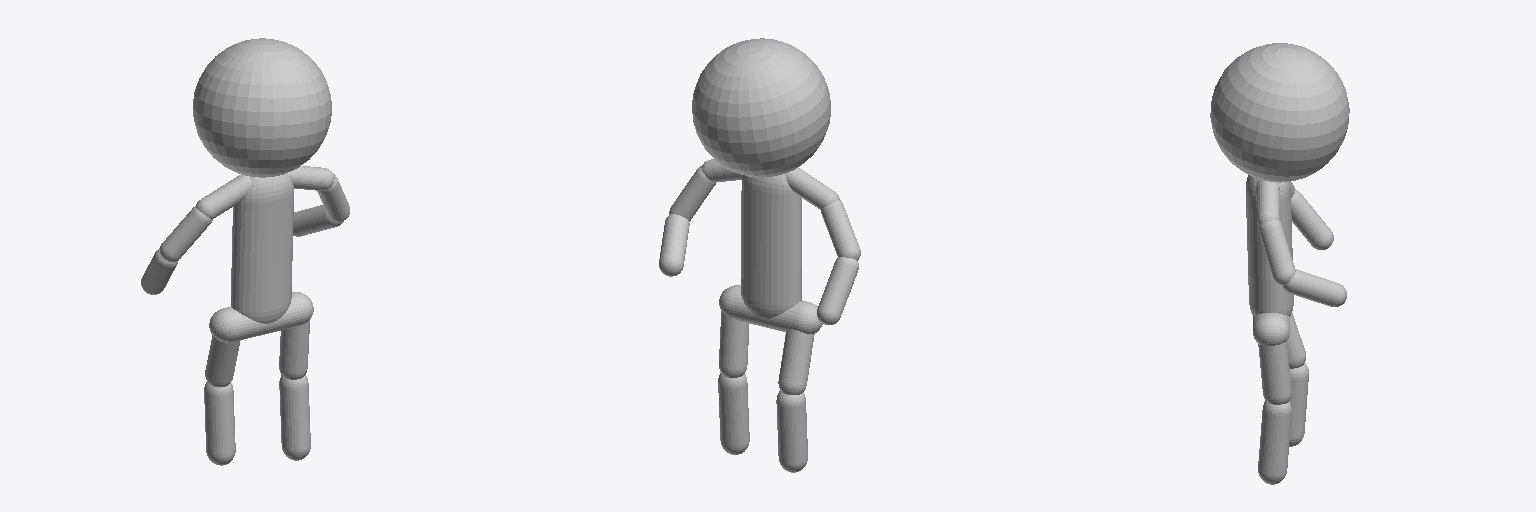
Rendered from Stickman_000033.obj.
3 views of the same model, side by side, from view 1: azimuth 30°, elevation 25°; view 2: azimuth 150°, elevation 25°; view 3: azimuth 270°, elevation 25° (orthographic).
Visible parts, largest first — view 1: Head_Sphere.001, Body_Roundcube.002, Hip_Roundcube.005, LowerLegLeft_Roundcube.013, LowerLegRight_Roundcube.011, UpperLegLeft_Roundcube.012, UpperArmRight_Roundcube.015, UpperLegRight_Roundcube.010, ShoulderRight_Roundcube.014, LowerArmLeft_Roundcube.019, LowerArmRight_Roundcube.016, ShoulderLeft_Roundcube.017 (+1 smaller); view 2: Head_Sphere.001, Body_Roundcube.002, LowerLegRight_Roundcube.011, LowerLegLeft_Roundcube.013, Hip_Roundcube.005, UpperLegRight_Roundcube.010, LowerArmRight_Roundcube.016, UpperLegLeft_Roundcube.012, LowerArmLeft_Roundcube.019, UpperArmRight_Roundcube.015, UpperArmLeft_Roundcube.018, ShoulderRight_Roundcube.014 (+1 smaller); view 3: Head_Sphere.001, Body_Roundcube.002, LowerLegLeft_Roundcube.013, UpperLegLeft_Roundcube.012, UpperArmLeft_Roundcube.018, LowerArmLeft_Roundcube.019, LowerArmRight_Roundcube.016, LowerLegRight_Roundcube.011, Hip_Roundcube.005, ShoulderLeft_Roundcube.017, UpperLegRight_Roundcube.010.
Boxes of the visible parts, x1=… form: Head_Sphere.001: x1=193, y1=38, x2=331, y2=177; Body_Roundcube.002: x1=231, y1=173, x2=293, y2=323; Hip_Roundcube.005: x1=209, y1=292, x2=313, y2=342; LowerLegLeft_Roundcube.013: x1=279, y1=375, x2=310, y2=460; LowerLegRight_Roundcube.011: x1=204, y1=382, x2=235, y2=465; UpperLegLeft_Roundcube.012: x1=279, y1=320, x2=309, y2=379; UpperArmRight_Roundcube.015: x1=160, y1=206, x2=212, y2=261; UpperLegRight_Roundcube.010: x1=205, y1=335, x2=240, y2=387; ShoulderRight_Roundcube.014: x1=196, y1=175, x2=250, y2=218; LowerArmLeft_Roundcube.019: x1=293, y1=205, x2=343, y2=236; LowerArmRight_Roundcube.016: x1=141, y1=248, x2=178, y2=294; ShoulderLeft_Roundcube.017: x1=287, y1=166, x2=334, y2=190; Head_Sphere.001: x1=692, y1=38, x2=830, y2=177; Body_Roundcube.002: x1=741, y1=173, x2=801, y2=318; LowerLegRight_Roundcube.011: x1=776, y1=391, x2=807, y2=472; LowerLegLeft_Roundcube.013: x1=718, y1=373, x2=749, y2=454; Hip_Roundcube.005: x1=719, y1=285, x2=822, y2=333; UpperLegRight_Roundcube.010: x1=778, y1=329, x2=814, y2=394; LowerArmRight_Roundcube.016: x1=817, y1=257, x2=858, y2=324; UpperLegLeft_Roundcube.012: x1=719, y1=311, x2=748, y2=377; LowerArmLeft_Roundcube.019: x1=659, y1=214, x2=689, y2=276; UpperArmRight_Roundcube.015: x1=821, y1=200, x2=860, y2=260; UpperArmLeft_Roundcube.018: x1=669, y1=166, x2=715, y2=221; ShoulderRight_Roundcube.014: x1=785, y1=168, x2=839, y2=209; Head_Sphere.001: x1=1210, y1=43, x2=1349, y2=182; Body_Roundcube.002: x1=1246, y1=175, x2=1293, y2=316; LowerLegLeft_Roundcube.013: x1=1258, y1=400, x2=1291, y2=484; UpperLegLeft_Roundcube.012: x1=1258, y1=341, x2=1291, y2=404; UpperArmLeft_Roundcube.018: x1=1259, y1=220, x2=1295, y2=285; LowerArmLeft_Roundcube.019: x1=1282, y1=269, x2=1346, y2=306; LowerArmRight_Roundcube.016: x1=1291, y1=189, x2=1333, y2=249; LowerLegRight_Roundcube.011: x1=1289, y1=363, x2=1308, y2=446; Hip_Roundcube.005: x1=1253, y1=313, x2=1289, y2=345; ShoulderLeft_Roundcube.017: x1=1256, y1=180, x2=1279, y2=225; UpperLegRight_Roundcube.010: x1=1287, y1=313, x2=1305, y2=368.
Size of the model in its own units: 5.29 by 11.16 by 3.36.